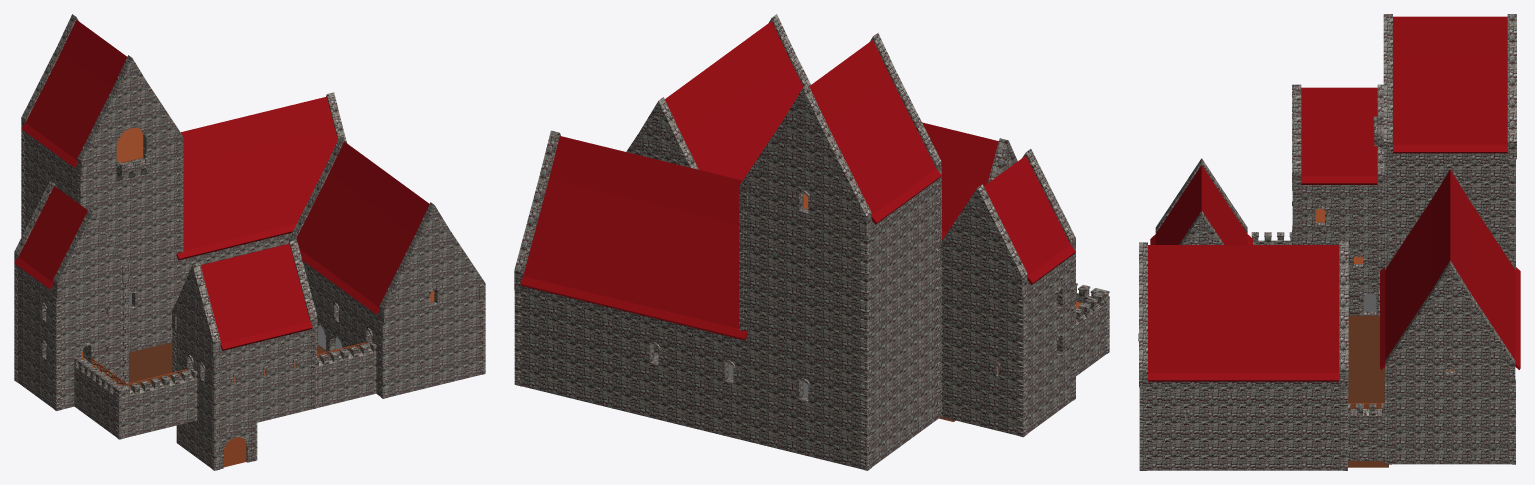
File: mod_temp_castle_02.fbx
3 views of the same model, side by side, from view 1: azimuth 30°, elevation 25°; view 2: azimuth 150°, elevation 25°; view 3: azimuth 270°, elevation 25° (orthographic). The views are drawn at different scales.
Parts seen in each view (by area): view 1: OuterWall_Basic.118; view 2: OuterWall_Basic.118; view 3: OuterWall_Basic.118.
Part boxes in pixels (x1,y1,x2,y2): OuterWall_Basic.118: (14,14,485,470); OuterWall_Basic.118: (514,14,1109,470); OuterWall_Basic.118: (1138,14,1520,470).
Bounding box in the file's own units: 61.41 × 53 × 50.01.
